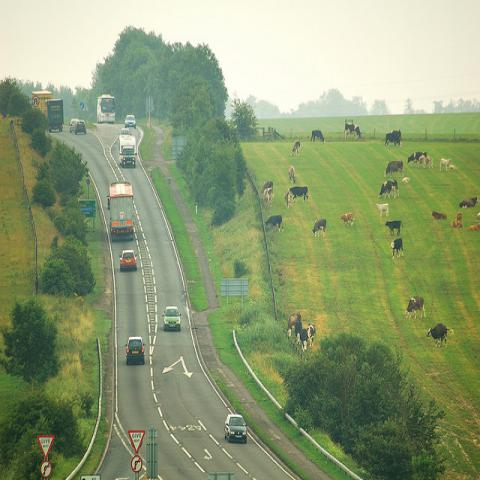bus: (97, 94, 115, 123)
car: (224, 413, 248, 444), (124, 336, 146, 365), (163, 306, 181, 332), (118, 251, 138, 273), (125, 114, 137, 128), (75, 121, 86, 134), (70, 119, 78, 133), (120, 129, 130, 134)
truck: (107, 180, 133, 243), (45, 99, 64, 133), (119, 134, 137, 168), (30, 90, 52, 114)
